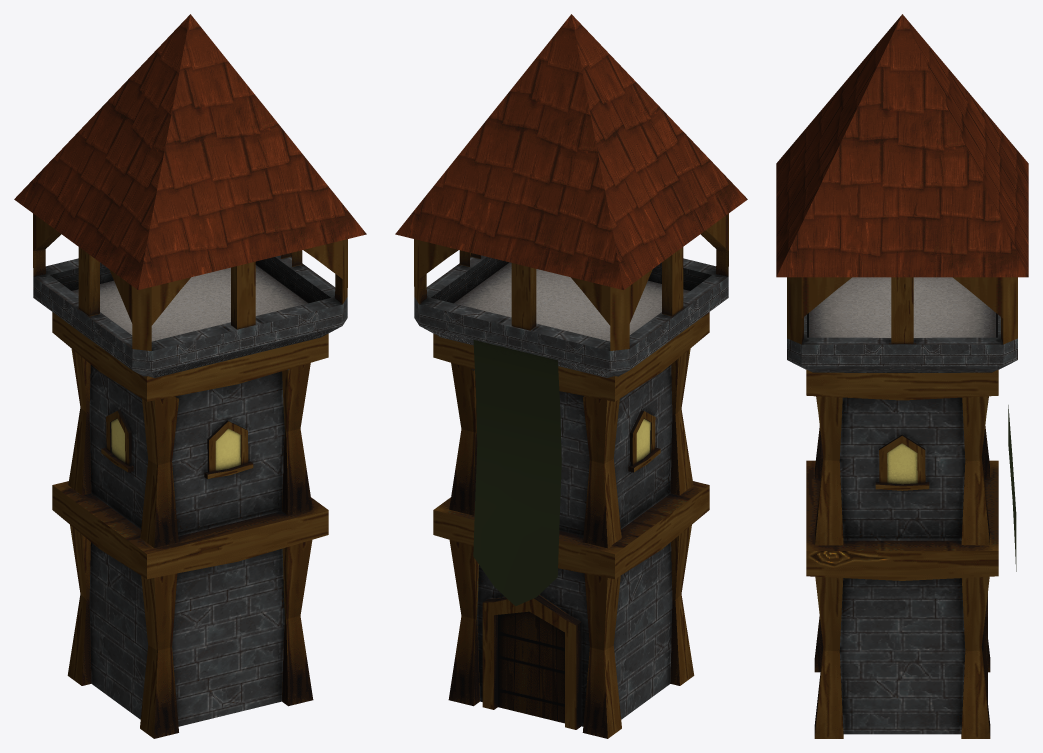
The model's file is turret.obj.
The picture shows the model from 3 angles, left to right: view 1: azimuth 30°, elevation 25°; view 2: azimuth 150°, elevation 25°; view 3: azimuth 270°, elevation 25°; orthographic projection.
Parts seen in each view (by area): view 1: turret; view 2: turret; view 3: turret.
Boxes of the visible parts, x1,y1,x2,y2 form: turret: (14,14,366,738); turret: (395,14,747,738); turret: (776,14,1028,738).
Size of the model in its own units: 8.38 by 23.58 by 7.87.
Materials: 1 (1 with a texture image).
